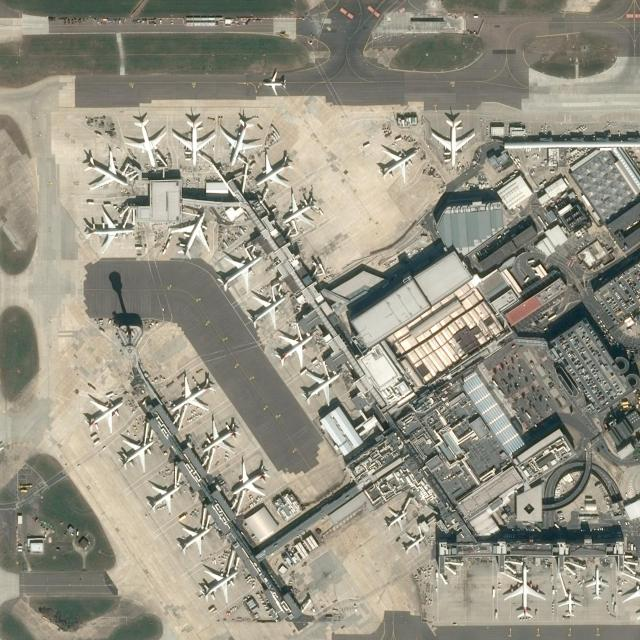1: (622, 578, 640, 616)
aircraft: (81, 207, 135, 252), (502, 566, 547, 620), (430, 116, 475, 168), (218, 115, 263, 166), (122, 117, 167, 168), (171, 116, 216, 166), (168, 210, 211, 260), (80, 149, 129, 189), (167, 375, 216, 413), (217, 252, 263, 292), (246, 291, 286, 332), (299, 368, 341, 406), (199, 418, 241, 456), (231, 458, 271, 497), (272, 331, 314, 367), (197, 566, 239, 602), (378, 146, 417, 184), (117, 436, 155, 474), (83, 396, 122, 432), (255, 152, 292, 188), (282, 192, 317, 226), (176, 524, 212, 555), (145, 482, 181, 512), (584, 566, 606, 600), (556, 591, 581, 617), (261, 70, 288, 94), (400, 532, 426, 555), (383, 507, 408, 529)
